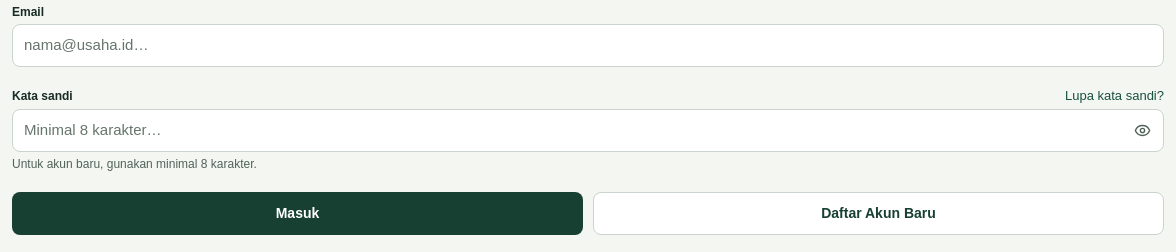
LoginForm (password only; link only for forgot password) › signs up: straight in when no confirmation is required, otherwise asks to check email
Earlier steps of the test are not shown.
Type "baru@dapur.id" into the field labelled "Email" at (588, 46), box [12,24,1164,67]
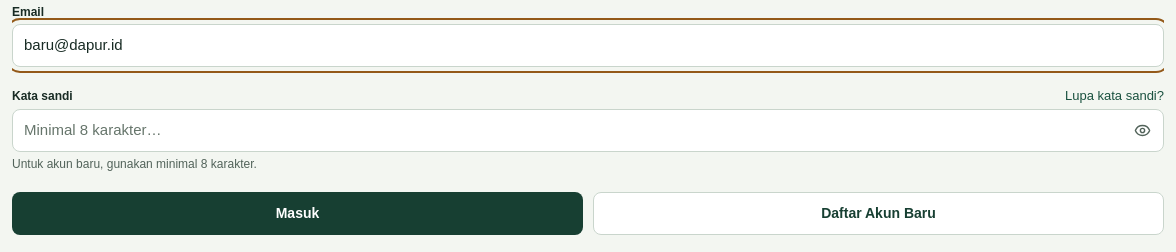
Type "rahasia123" into the password field labelled "Kata sandi" at (588, 130), box [12,108,1164,152]
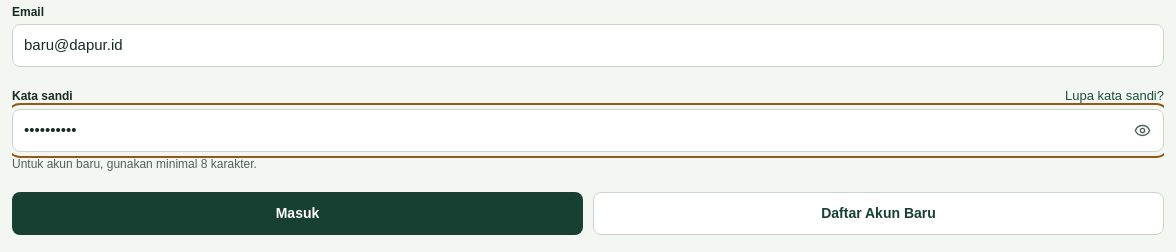
Click the button "Daftar Akun Baru" at (878, 213), box [593,192,1164,234]
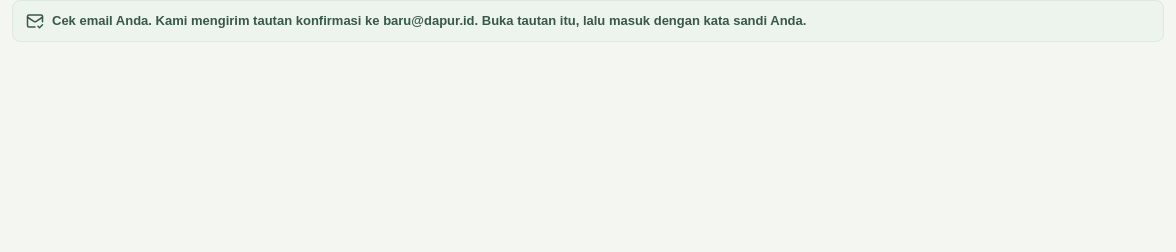
Check: the text "tautan konfirmasi" is shown, box [156,13,806,28]
